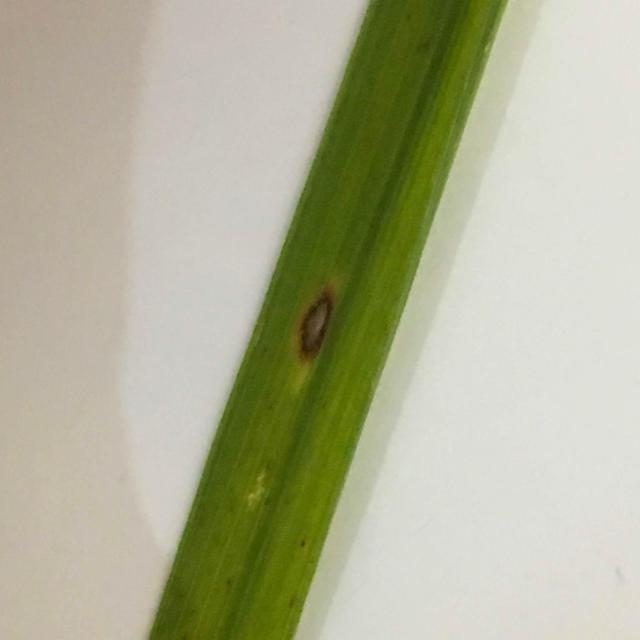Leaf_Blast: (283, 253, 364, 410)
